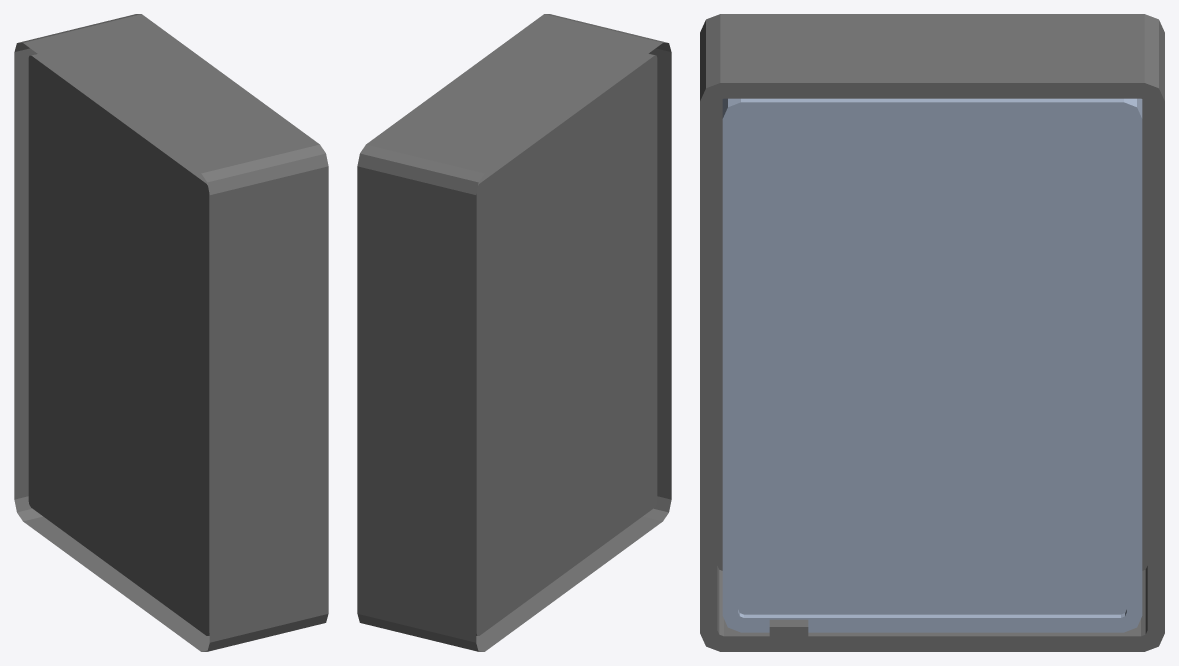
Rendered from ArmarioEspelho.fbx.
3 renders of one model, left to right at view 1: azimuth 30°, elevation 25°; view 2: azimuth 150°, elevation 25°; view 3: azimuth 270°, elevation 25°, orthographic. The views are drawn at different scales.
Visible parts, largest first — view 1: Cube; view 2: Cube; view 3: Cube.001, Cube, Cube.002.
Part boxes in pixels (x1=…): Cube: x1=14, y1=14, x2=328, y2=651; Cube: x1=357, y1=14, x2=671, y2=651; Cube.001: x1=722, y1=98, x2=1142, y2=632; Cube: x1=700, y1=14, x2=1164, y2=651; Cube.002: x1=769, y1=619, x2=808, y2=638.
Bounding box in the file's own units: 11.07 × 38.5 × 28.5.
